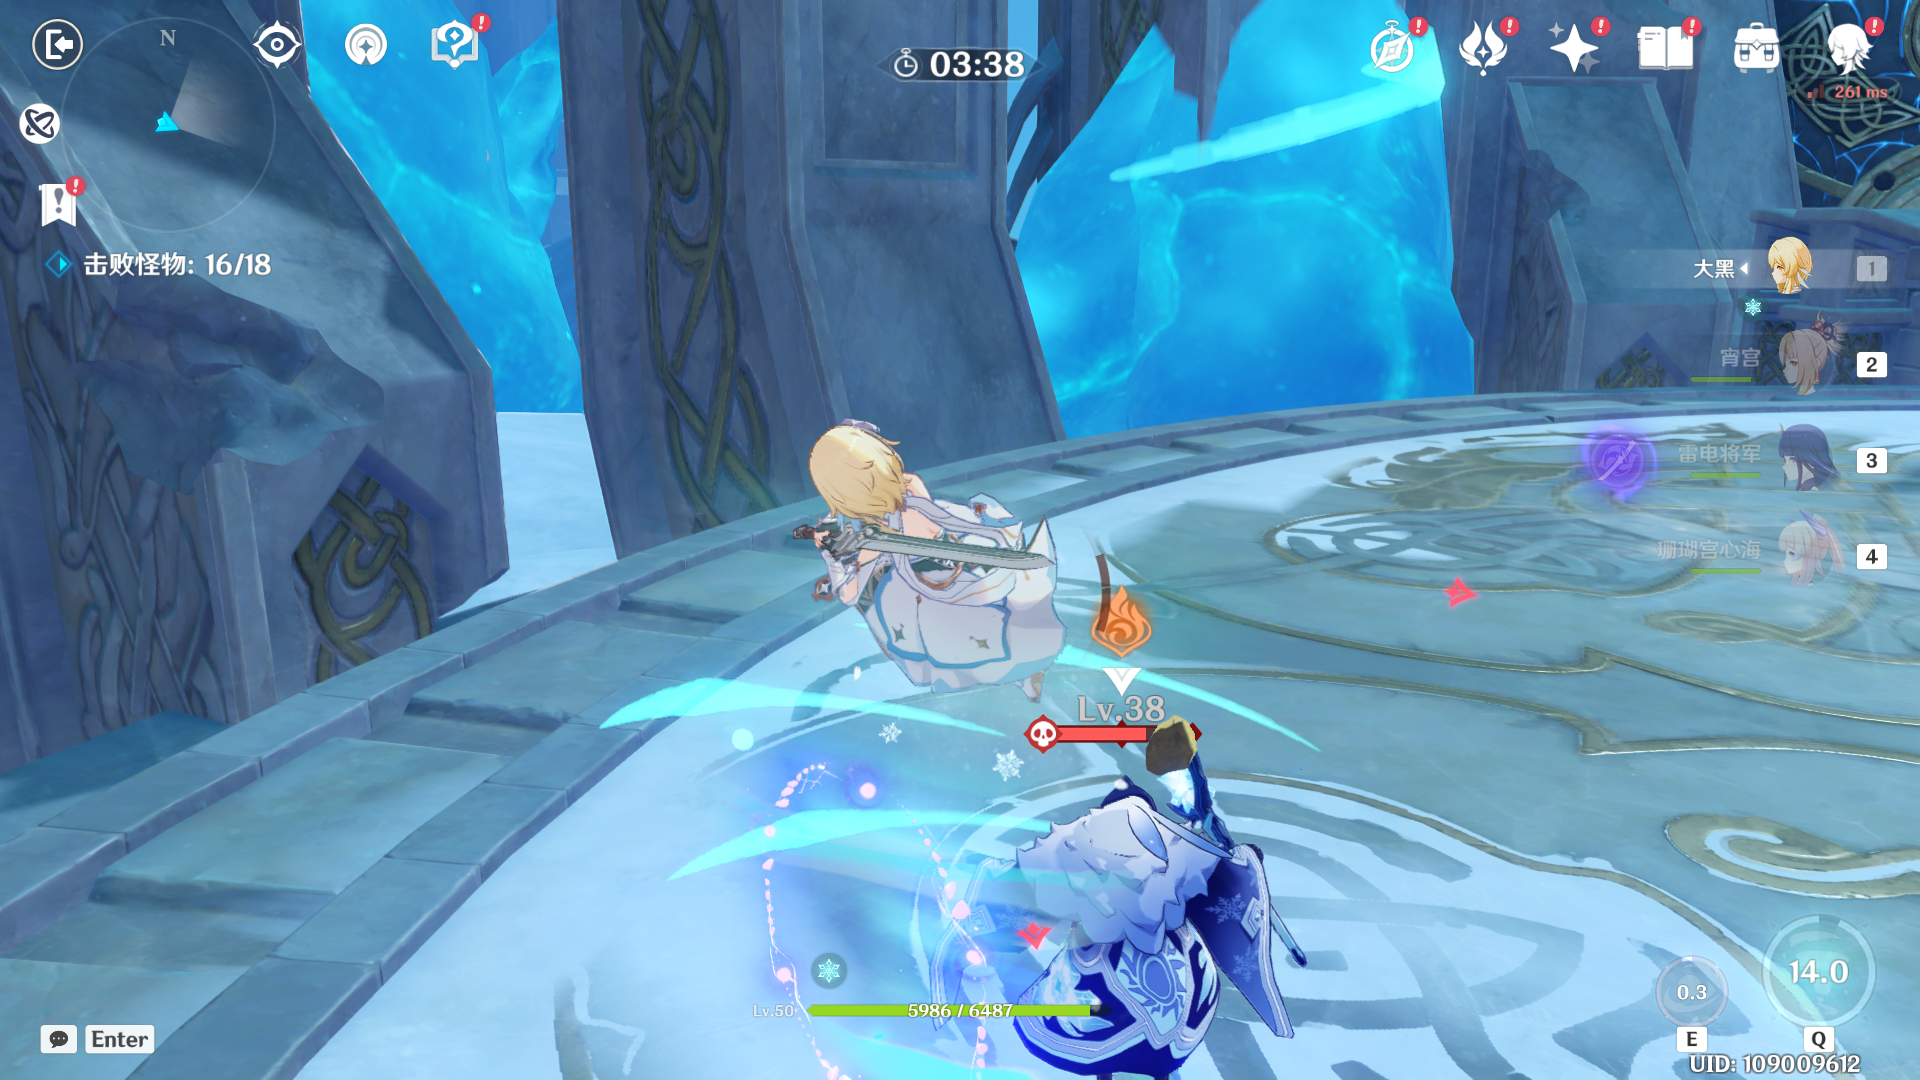caster: (890, 727, 1379, 1080)
character: (775, 405, 1159, 728)
